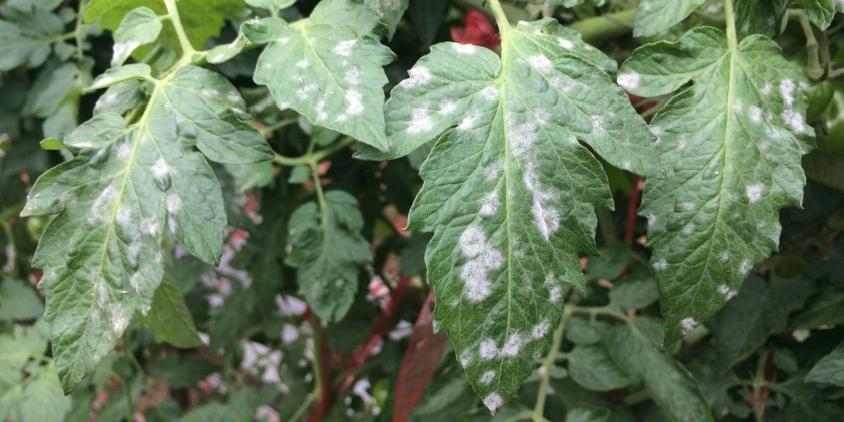powdery_mildew: (28, 9, 769, 376)
